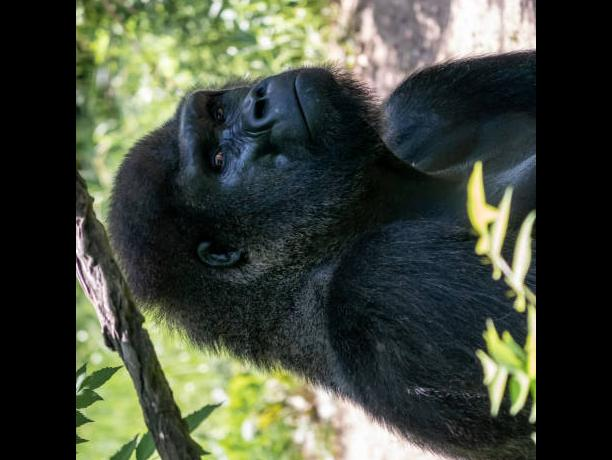gorille_Autres: (88, 17, 536, 460)
